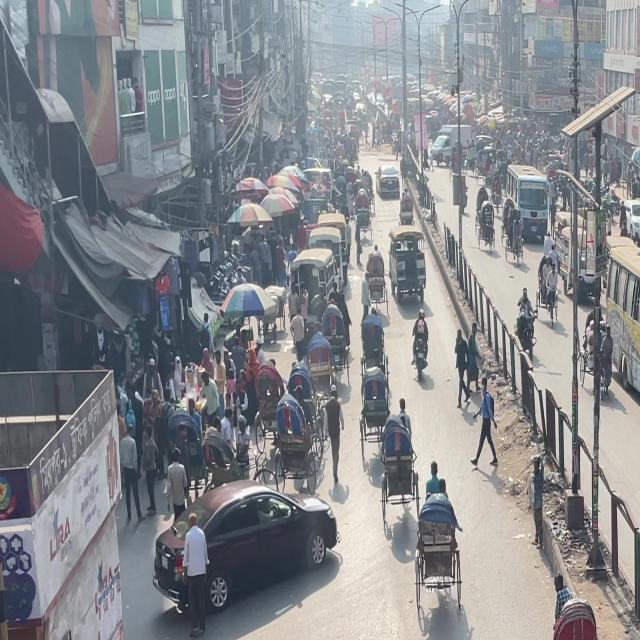bus: (511, 167, 553, 233), (429, 124, 481, 170)
car: (152, 483, 341, 635), (388, 234, 426, 311), (302, 220, 347, 274), (375, 166, 402, 201)
